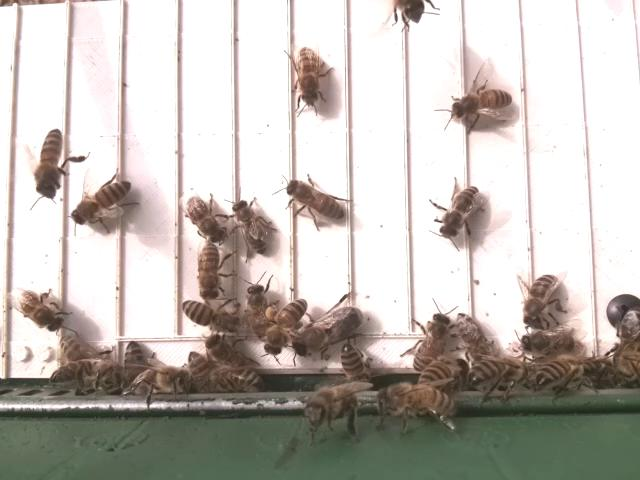Drone: (291, 304, 367, 358)
Worker: (68, 178, 136, 228), (283, 173, 348, 224), (434, 182, 482, 241), (32, 126, 70, 200), (176, 295, 241, 337), (262, 297, 304, 359), (17, 285, 70, 333), (229, 197, 272, 255), (445, 86, 516, 121), (184, 191, 229, 246), (413, 313, 453, 371), (463, 354, 524, 391), (524, 271, 561, 331), (291, 43, 323, 109), (531, 358, 589, 393), (194, 238, 225, 300), (519, 327, 579, 359), (244, 279, 271, 339), (340, 341, 372, 391)
